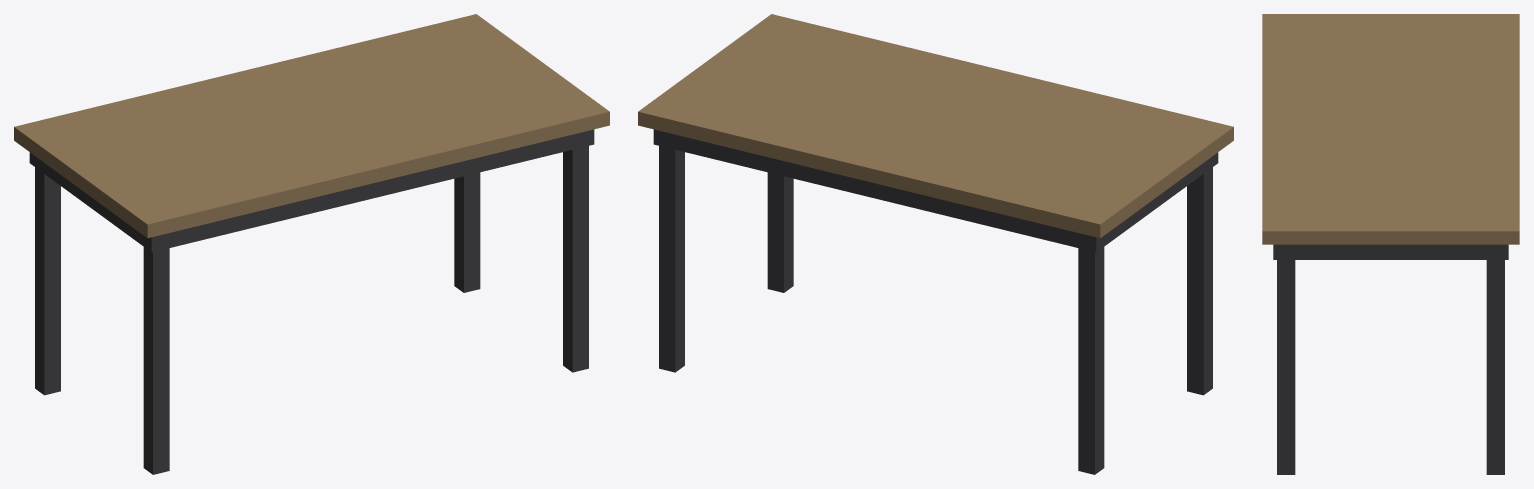
File: Apt_Table.glb
3 renders of one model, left to right at view 1: azimuth 30°, elevation 25°; view 2: azimuth 150°, elevation 25°; view 3: azimuth 270°, elevation 25°, orthographic. The views are drawn at different scales.
Parts seen in each view (by area): view 1: Apt_Table; view 2: Apt_Table; view 3: Apt_Table.
Boxes of the visible parts, x1,y1,x2,y2 form: Apt_Table: (14,14,609,474); Apt_Table: (638,14,1233,474); Apt_Table: (1262,14,1519,474).
Size of what is drawn, in the model's own units: 1.4 by 0.75 by 0.7.
